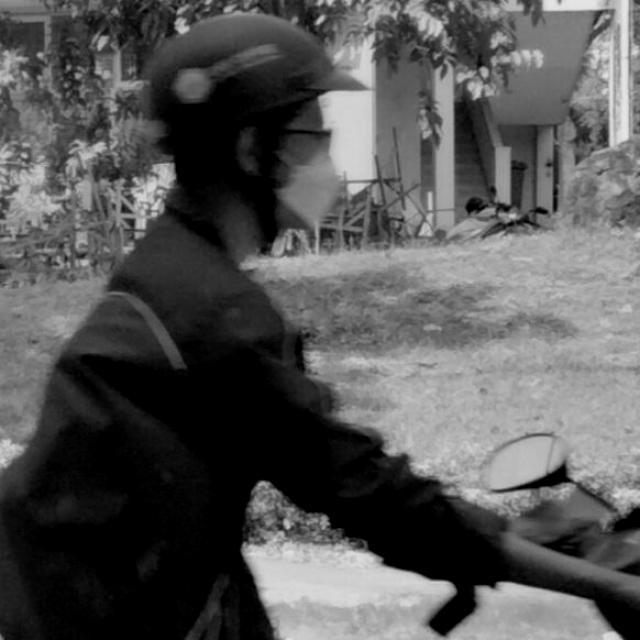Helmet: (152, 17, 364, 251)
